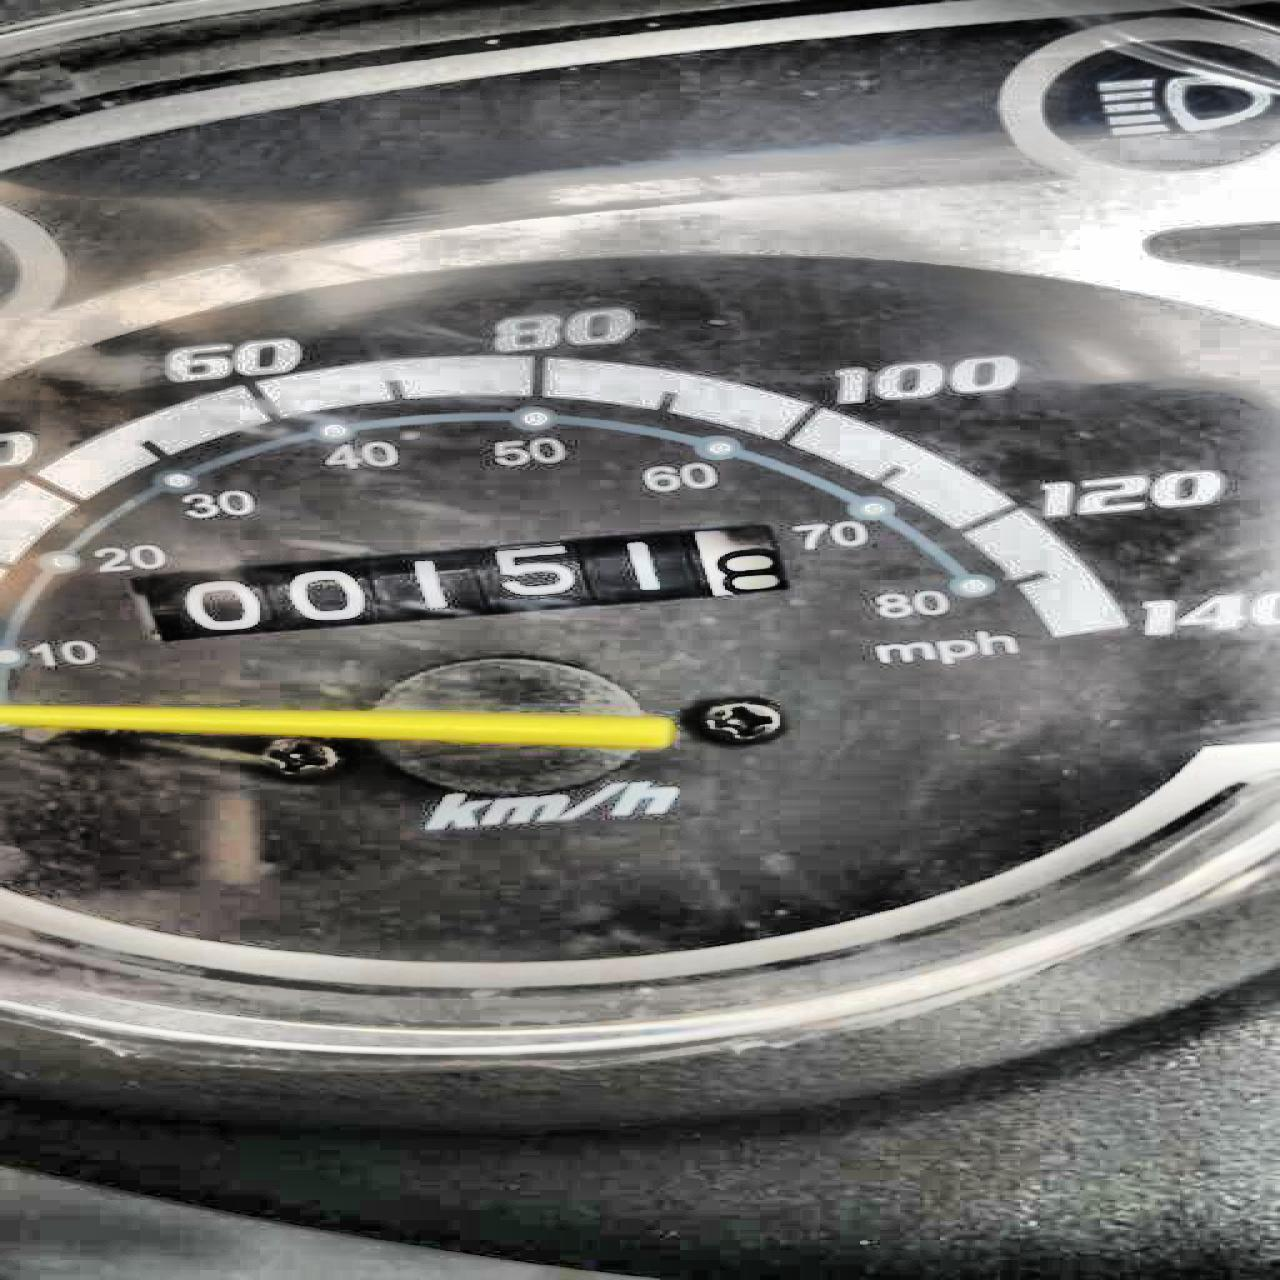0: (282, 565, 368, 624), (181, 578, 267, 633), (130, 542, 168, 570)
1: (400, 552, 462, 619), (615, 530, 662, 604)
5: (485, 540, 580, 599)
8: (704, 545, 788, 602)
odometer: (123, 516, 803, 646)
